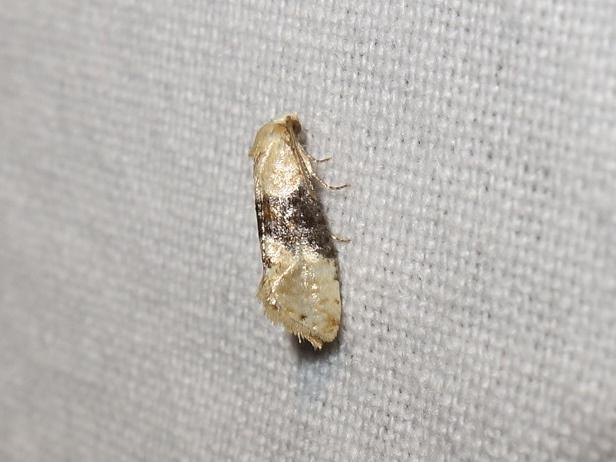Eupoecilia Ambiguella: (244, 110, 353, 353)
